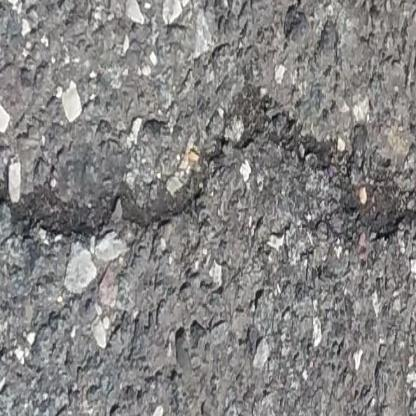Cracks: (0, 94, 416, 258), (290, 0, 316, 28), (260, 0, 282, 13)
